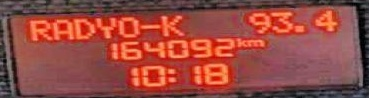-: (292, 23, 306, 32)
0: (139, 64, 165, 85), (165, 38, 189, 57)
1: (128, 65, 139, 86), (108, 41, 118, 59), (192, 64, 200, 85)
2: (212, 37, 233, 56)
3: (269, 10, 293, 33)
4: (311, 9, 337, 32), (141, 40, 164, 58)
6: (119, 40, 141, 59)
8: (202, 62, 227, 84)
9: (245, 12, 269, 33), (189, 38, 210, 57)
X: (161, 14, 184, 37), (28, 18, 51, 40), (115, 15, 139, 36), (51, 17, 72, 39), (72, 17, 92, 39), (94, 16, 114, 37), (165, 67, 176, 82), (245, 38, 265, 46), (139, 22, 159, 29), (235, 37, 245, 46)
